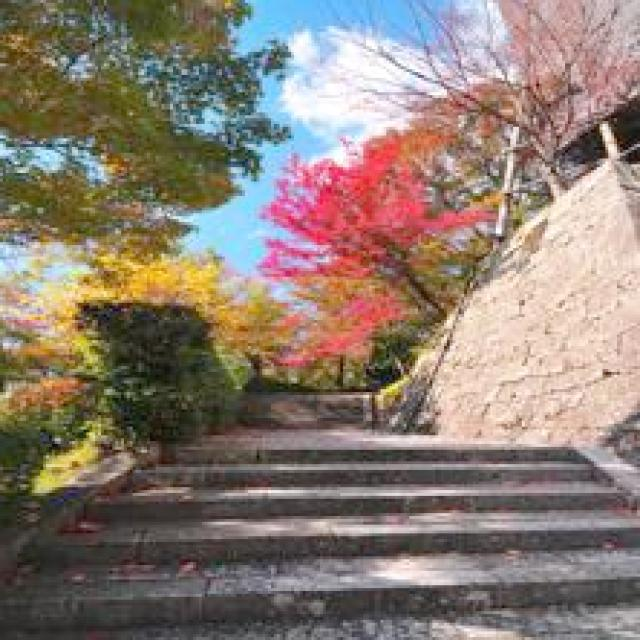upstair: (85, 437, 494, 633)
